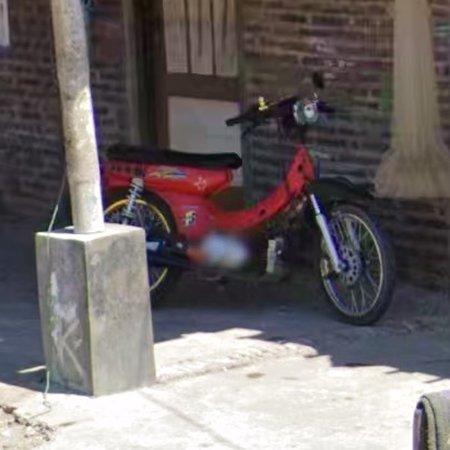motorcycles: (104, 72, 398, 330)
